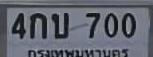0: (121, 12, 135, 37), (103, 12, 117, 37)
4: (11, 12, 25, 38)
7: (85, 12, 99, 37)
A01: (29, 12, 46, 38)
A26: (51, 12, 68, 38)
